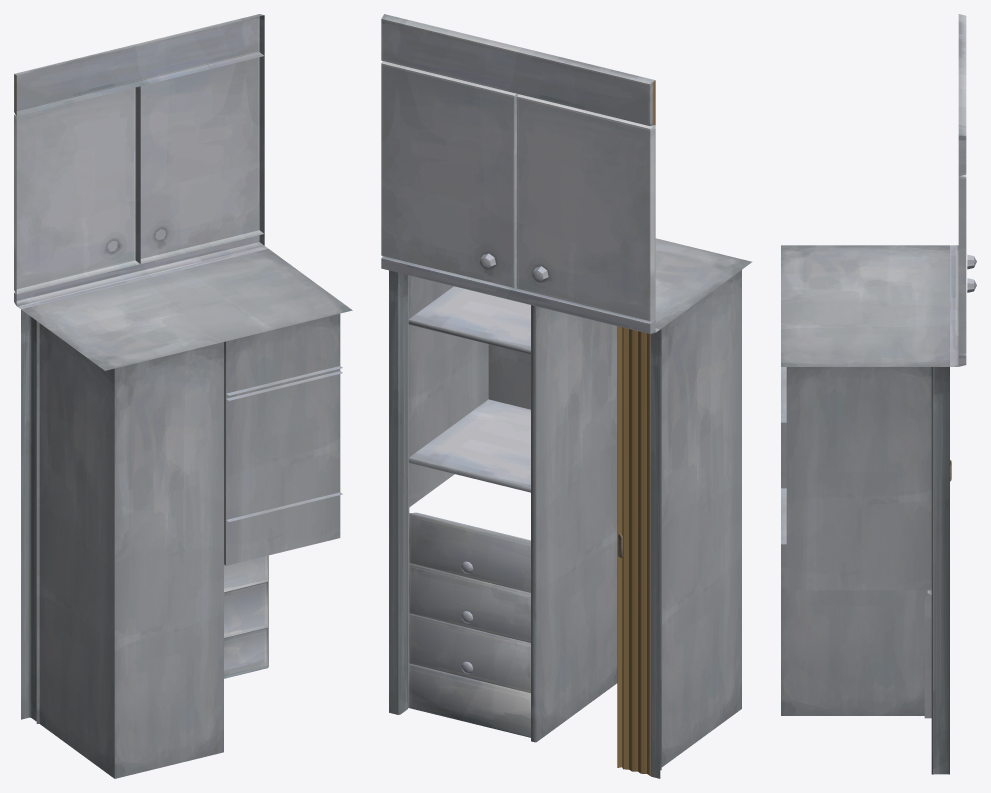
The model's file is Ropero.obj.
The picture shows the model from 3 angles, left to right: view 1: azimuth 30°, elevation 25°; view 2: azimuth 150°, elevation 25°; view 3: azimuth 270°, elevation 25°; orthographic projection. The views are drawn at different scales.
Visible parts, largest first — view 1: Ropero; view 2: Ropero; view 3: Ropero.
Boxes of the visible parts, x1,y1,x2,y2 form: Ropero: [14, 14, 352, 778]; Ropero: [381, 14, 751, 778]; Ropero: [781, 14, 976, 774].
Size of the model in its own units: 1.06 by 2.62 by 0.7228.
1 material, 1 textured.
